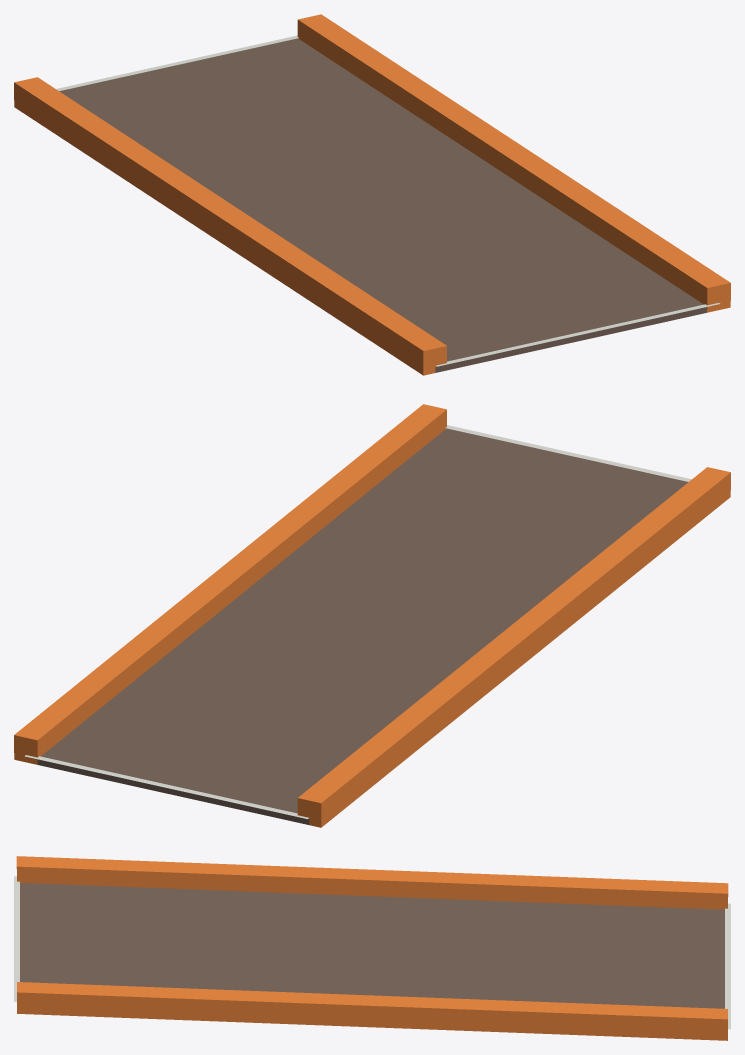
The model's file is SM_MP_Film_A_0_1.fbx.
3 renders of one model, top to bottom at view 1: azimuth 30°, elevation 25°; view 2: azimuth 150°, elevation 25°; view 3: azimuth 270°, elevation 25°, orthographic. The views are drawn at different scales.
Parts seen in each view (by area): view 1: SM_MP_Film_A_0_1; view 2: SM_MP_Film_A_0_1; view 3: SM_MP_Film_A_0_1.
Boxes of the visible parts, <box> form: SM_MP_Film_A_0_1: <box>14,14,730,375</box>; SM_MP_Film_A_0_1: <box>14,404,730,827</box>; SM_MP_Film_A_0_1: <box>14,856,730,1040</box>.
Size of what is drawn, in the model's own units: 260 by 605 by 50.76.
